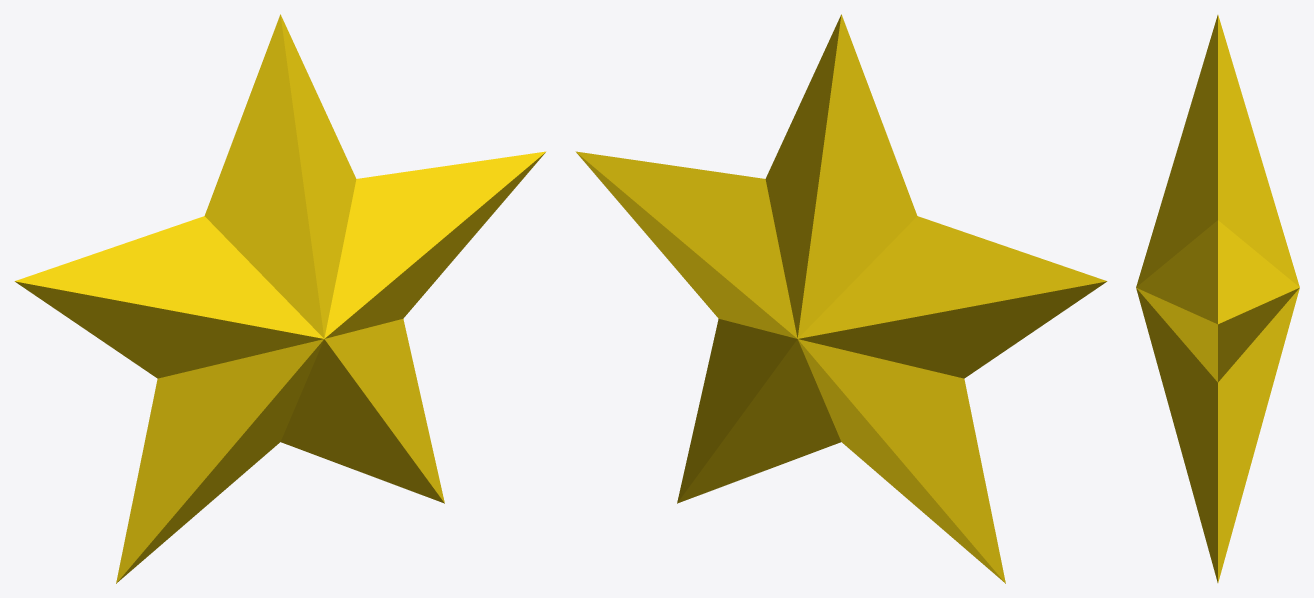
File: star.glb
3 views of the same model, side by side, from view 1: azimuth 30°, elevation 25°; view 2: azimuth 150°, elevation 25°; view 3: azimuth 270°, elevation 25° (orthographic). The views are drawn at different scales.
Parts seen in each view (by area): view 1: Circle; view 2: Circle; view 3: Circle.
Boxes of the visible parts, x1,y1,x2,y2 form: Circle: (14, 14, 546, 583); Circle: (575, 14, 1107, 583); Circle: (1136, 15, 1299, 582).
Size of the model in its own units: 3.82 by 3.64 by 1.09.
